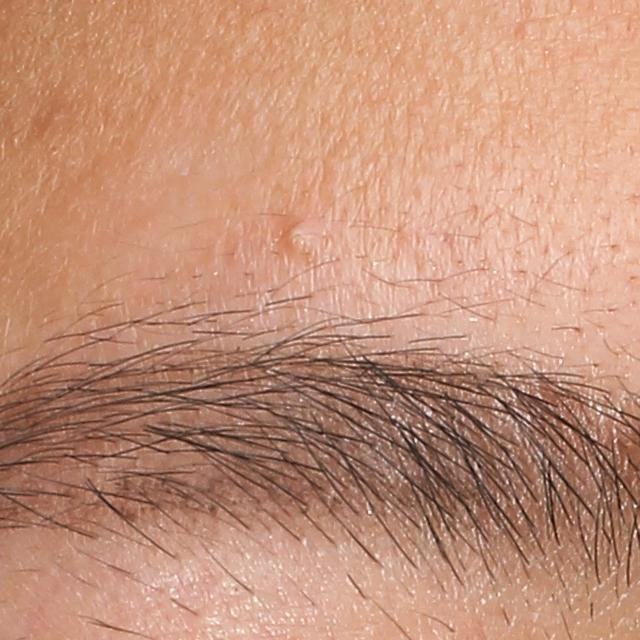comedo: (513, 18, 542, 41)
